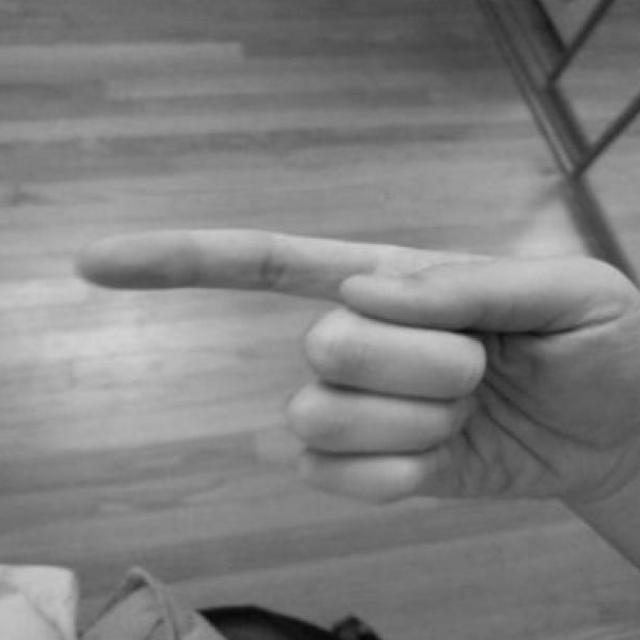G: (67, 143, 640, 532)
